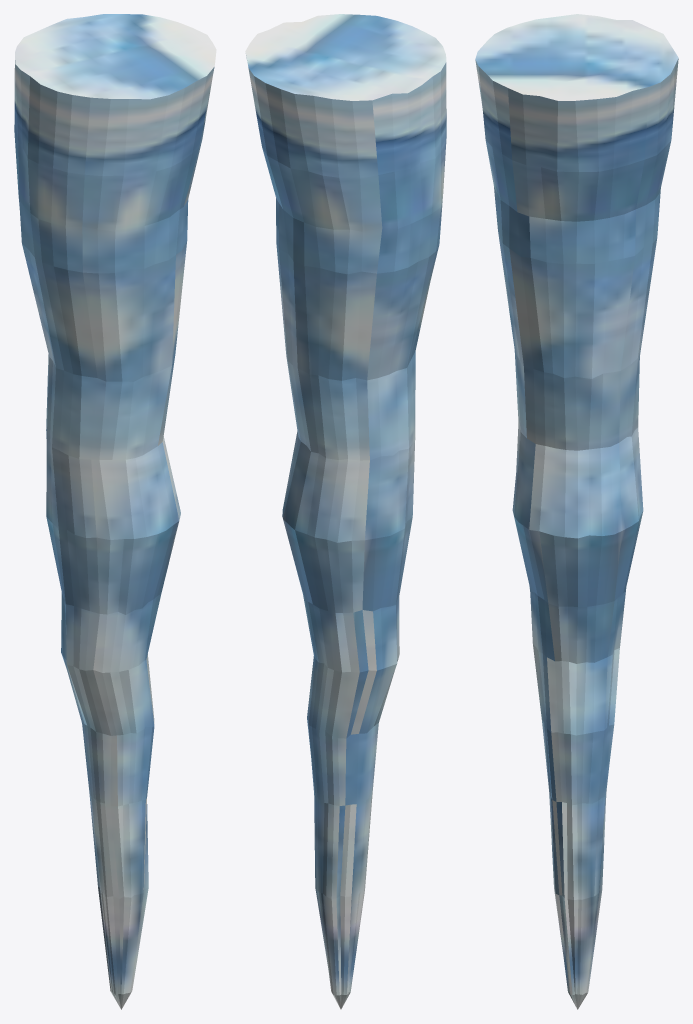
Rendered from Espinho.fbx.
The picture shows the model from 3 angles, left to right: view 1: azimuth 30°, elevation 25°; view 2: azimuth 150°, elevation 25°; view 3: azimuth 270°, elevation 25°; orthographic projection.
Parts seen in each view (by area): view 1: Circle; view 2: Circle; view 3: Circle.
Part boxes in pixels (box(x1,y1,x2,y2)): Circle: box(14, 14, 216, 1009); Circle: box(245, 14, 446, 1009); Circle: box(475, 14, 678, 1009).
Bounding box in the file's own units: 367 × 1874 × 363.
